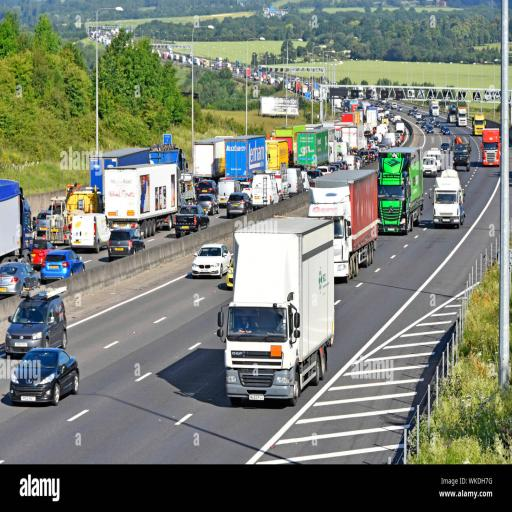car: (9, 346, 80, 406), (40, 248, 85, 283), (191, 243, 231, 278), (0, 262, 40, 296), (107, 227, 145, 260), (30, 238, 57, 270), (226, 192, 253, 218), (197, 193, 219, 215), (226, 253, 234, 289)
person: (236, 314, 252, 333)
truck: (216, 216, 335, 406), (308, 169, 378, 282), (103, 162, 179, 238), (377, 146, 424, 235), (424, 163, 471, 236), (0, 178, 34, 266), (481, 128, 500, 167), (472, 114, 486, 136)
